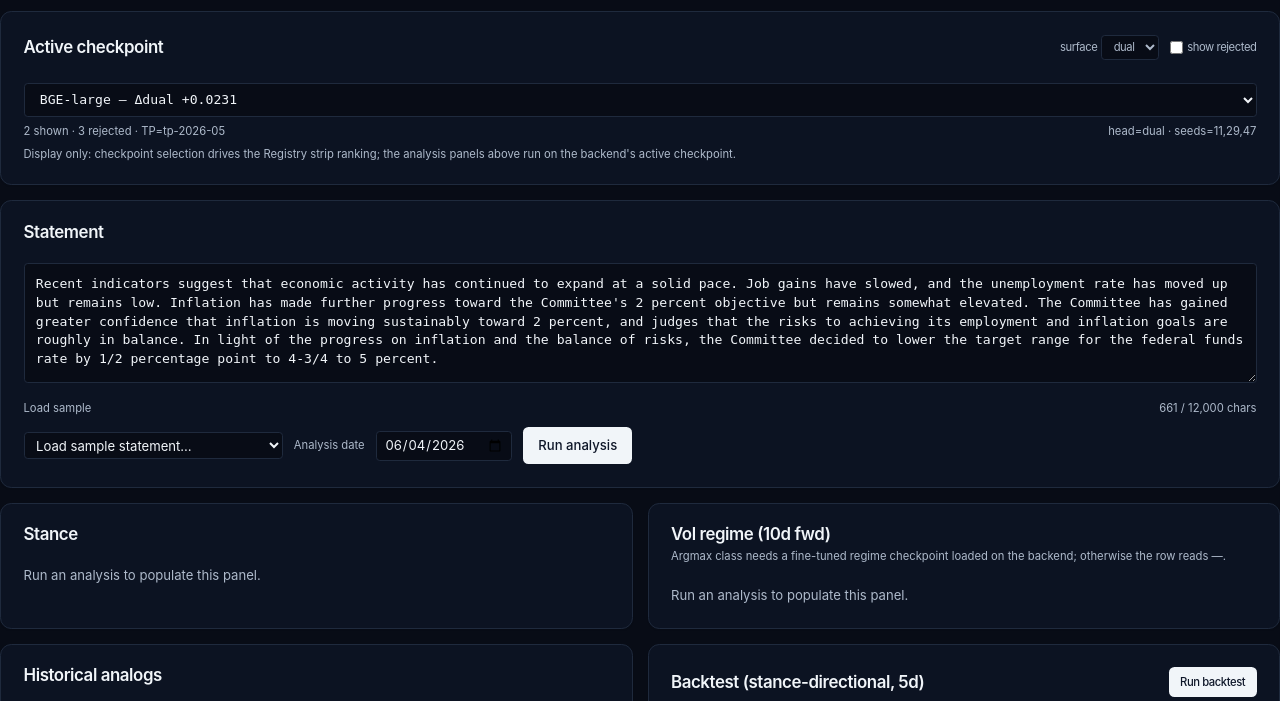
Test: TerminalTab › auto-runs the backtest once analyze resolves and surfaces Sharpe / HitRate / MaxDD
The width and height of the screenshot is (1280, 701).
Click the button "Run analysis" at (578, 446), box [523, 427, 632, 464]
(page scrolled)
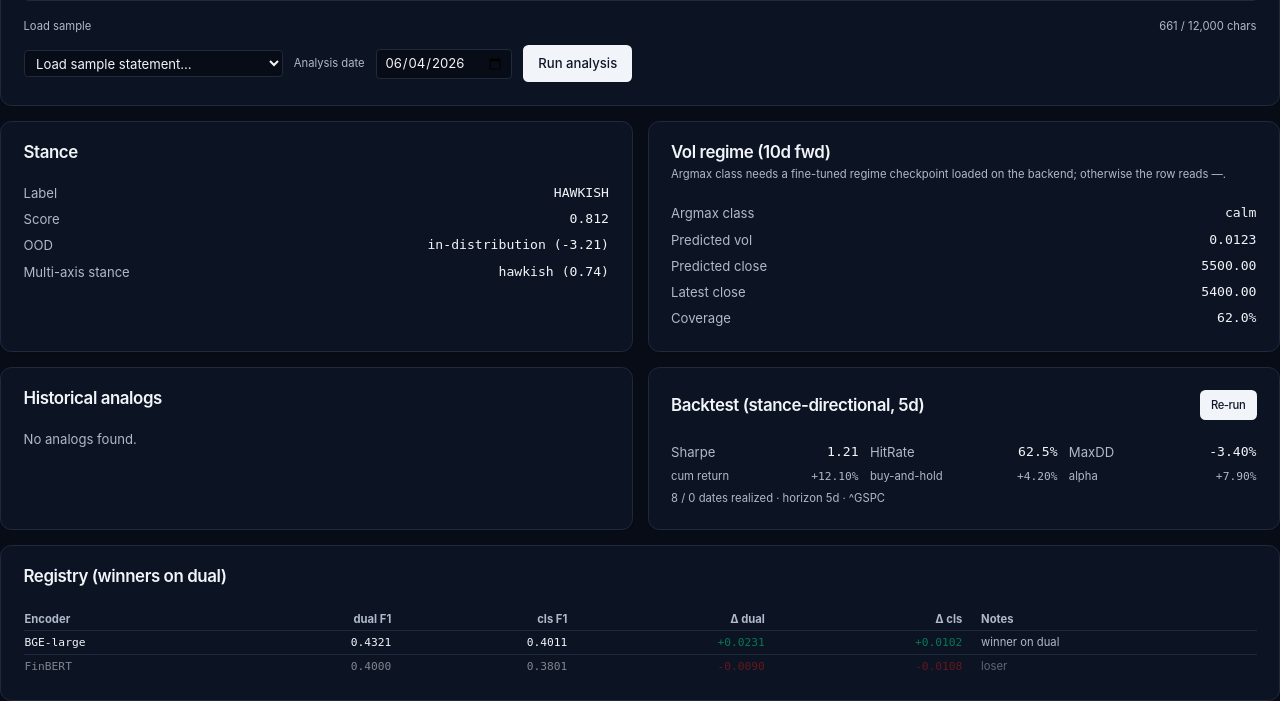
Expected: the text "1.21" is shown, [827, 443, 859, 461]
Expected: the text "62.5%" is shown, [1018, 443, 1058, 461]
Expected: the text "-3.40%" is shown, [1209, 443, 1256, 461]
